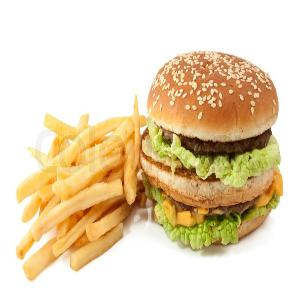cheeseburger: (143, 38, 291, 261)
fries: (6, 98, 150, 277)
